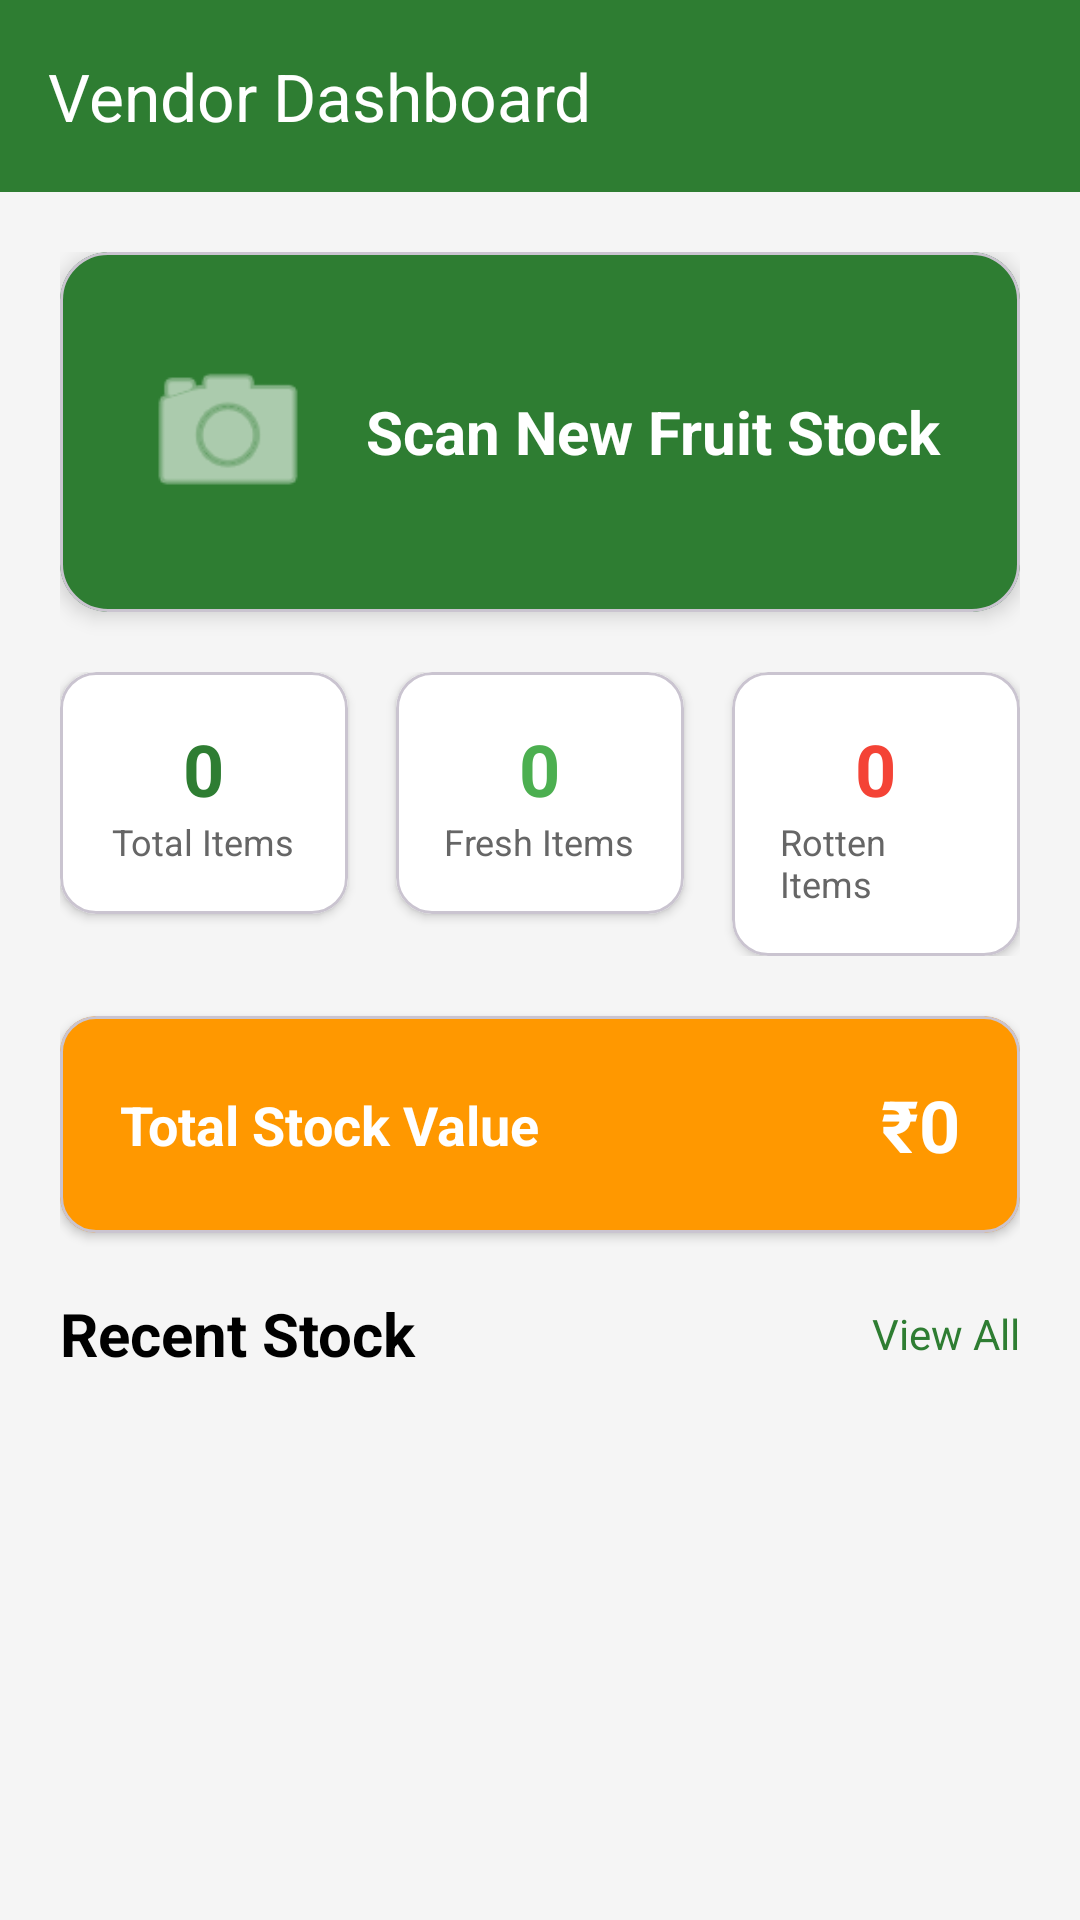

Icon click points for this 1080px×1920px phone screenshot, format [x,y]:
camera: [228,429]
